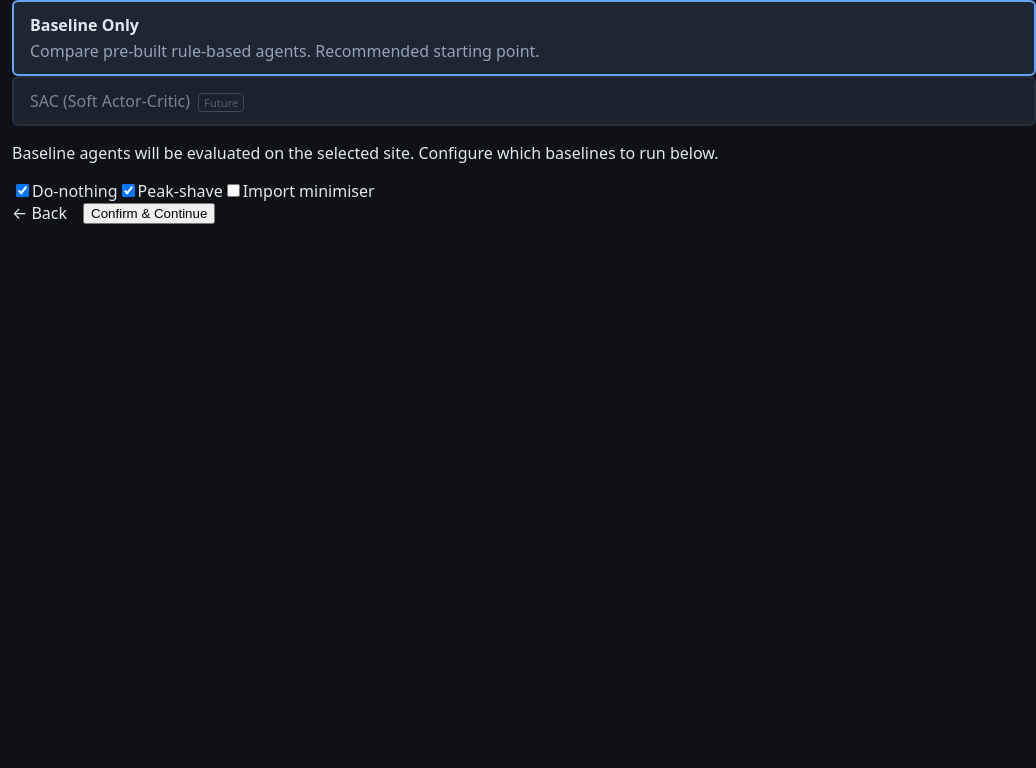
Test case: §T3 Algorithm card interaction (SAC = non-submitting stub) › [T-ALGO-1] selecting SAC: aria-checked flips; coming-soon notice + constants preview appear
The image size is (1036, 768).
Click the radio button with test id "algo-card-sac".
click(524, 101)  # box [12, 76, 1035, 126]
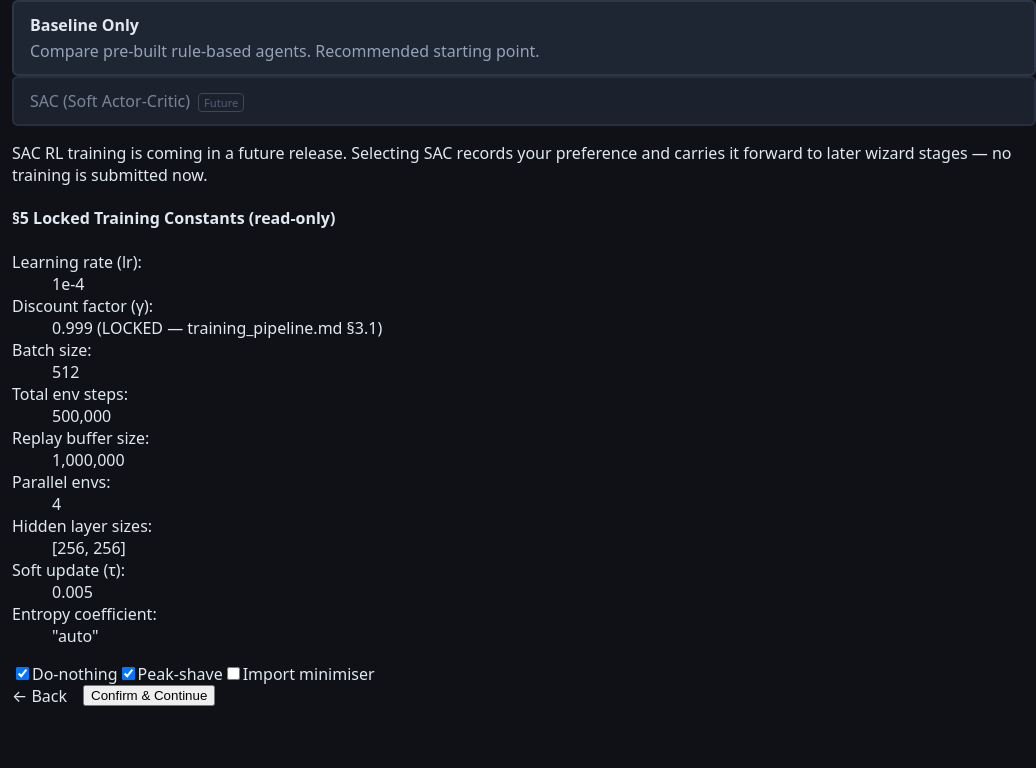
Check: the element with test id "algo-sac-coming-soon-notice" is shown, box [12, 142, 1035, 186]
Check: the element with test id "algo-sac-constants-preview" is shown, box [12, 207, 382, 647]
